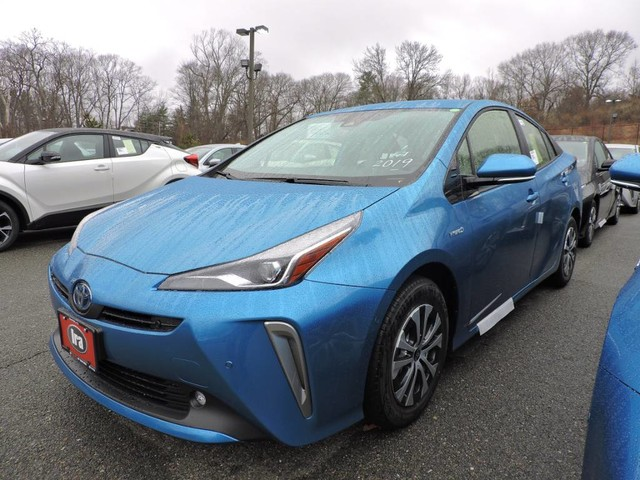Toyota Prius: (49, 99, 582, 447)
